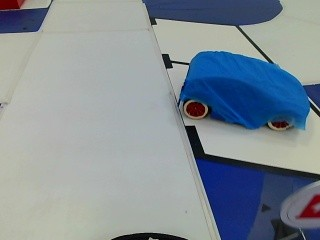car: (180, 48, 307, 131)
